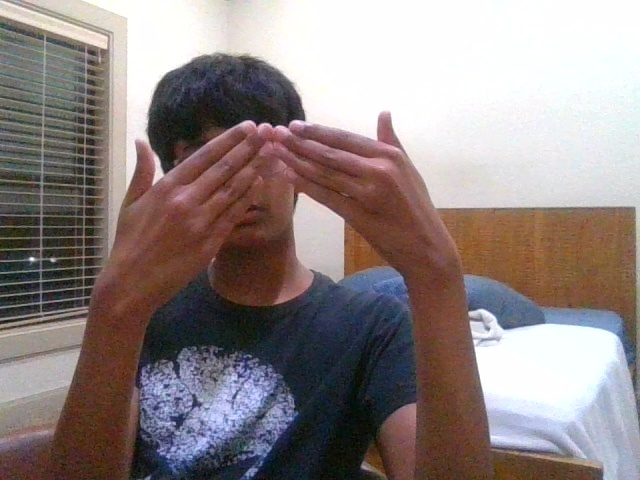thanks: (112, 110, 449, 275)
